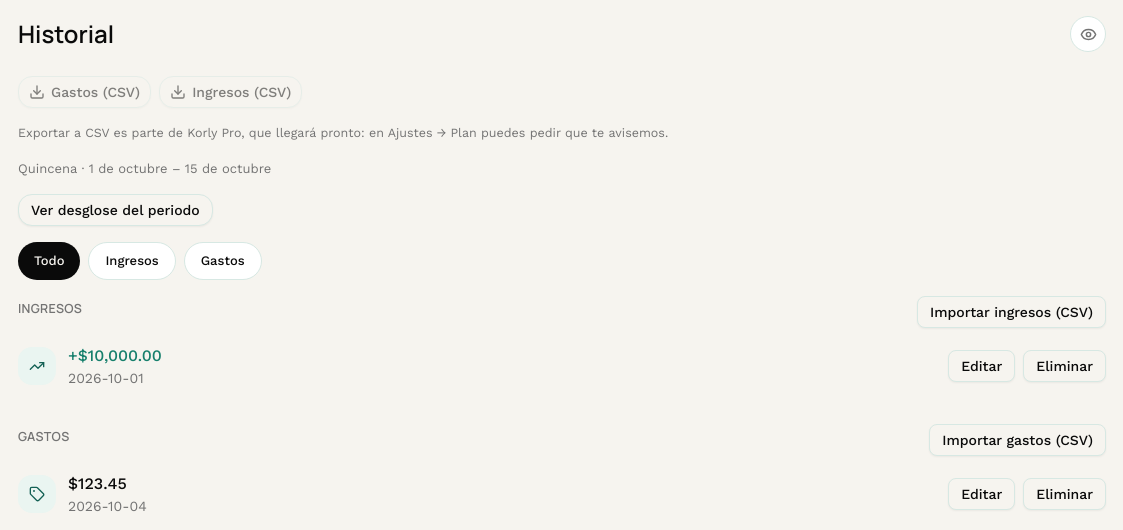
Test case: Historial — filtros y desglose › por omisión muestra todo; "ingresos" esconde los gastos y "gastos" esconde los ingresos
Expected: the heading "INGRESOS" is shown, [18,296,82,319]
Expected: the heading "GASTOS" is shown, [18,424,70,447]
What coordinates should you click on to do the following:
click the button "ingresos"
I would click on:
 (132, 261)
Its box is [88,242,176,280].
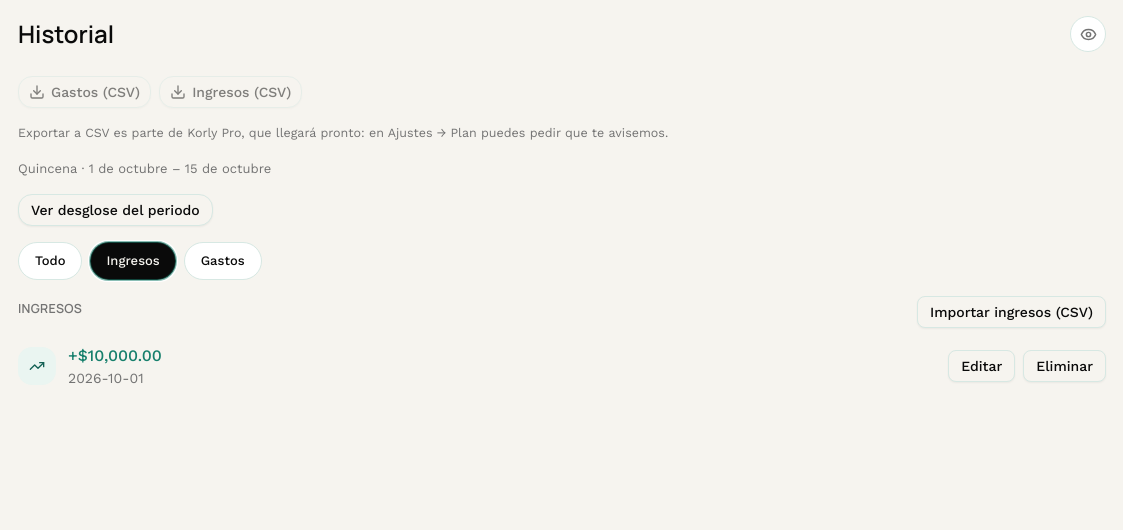
Expected: the heading "INGRESOS" is shown, [18,296,82,319]
What coordinates should you click on to do the following:
click the button "gastos"
I would click on:
 (223, 261)
Its box is [184,242,262,280].
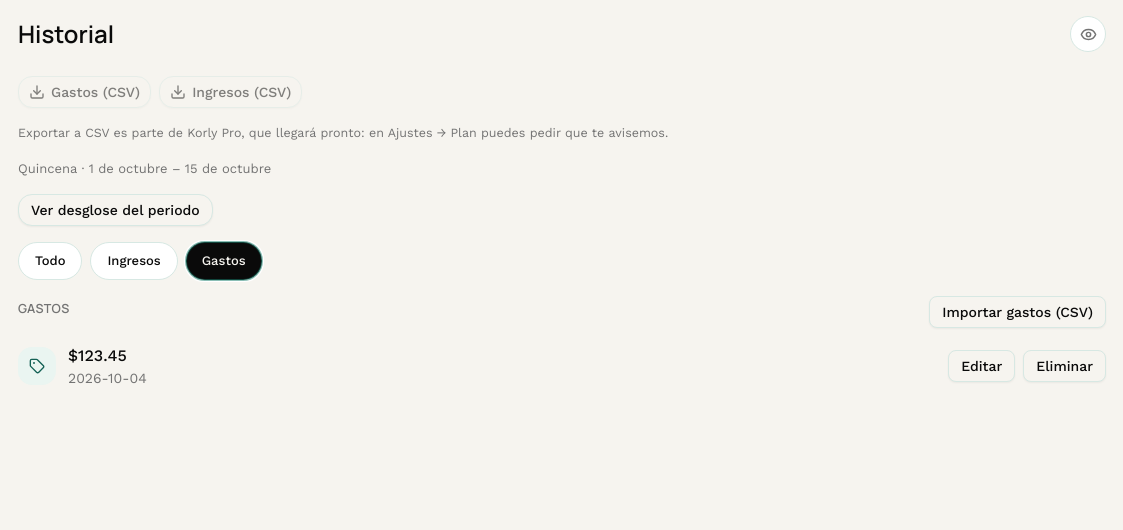
Now the heading "GASTOS" is shown, box [18,296,70,319]
What coordinates should you click on to do the following:
click the button "todo"
I would click on:
 (50, 261)
Its box is [18,242,82,280].
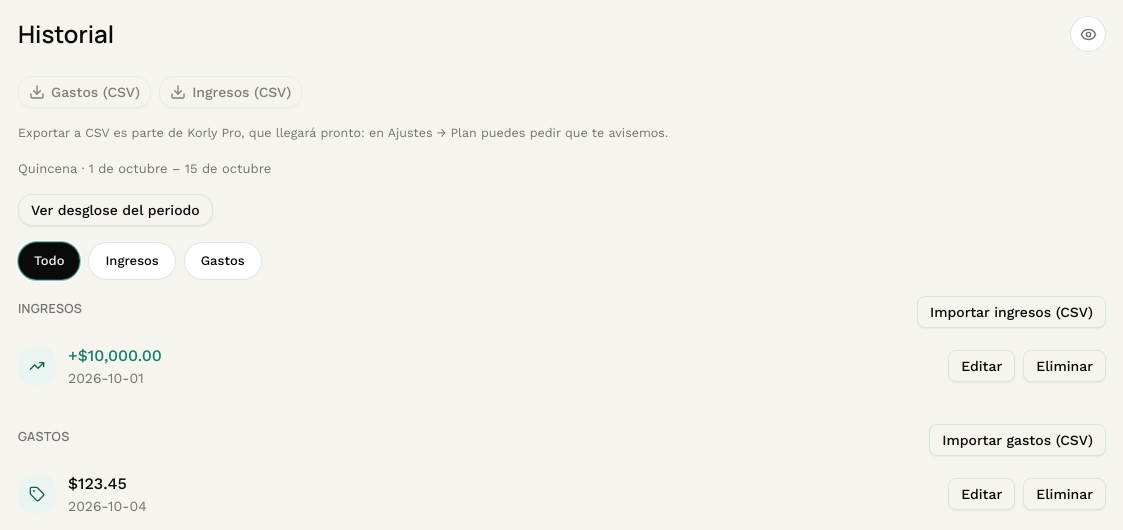
Now the heading "GASTOS" is shown, box [18,424,70,447]
Now the heading "INGRESOS" is shown, box [18,296,82,319]
